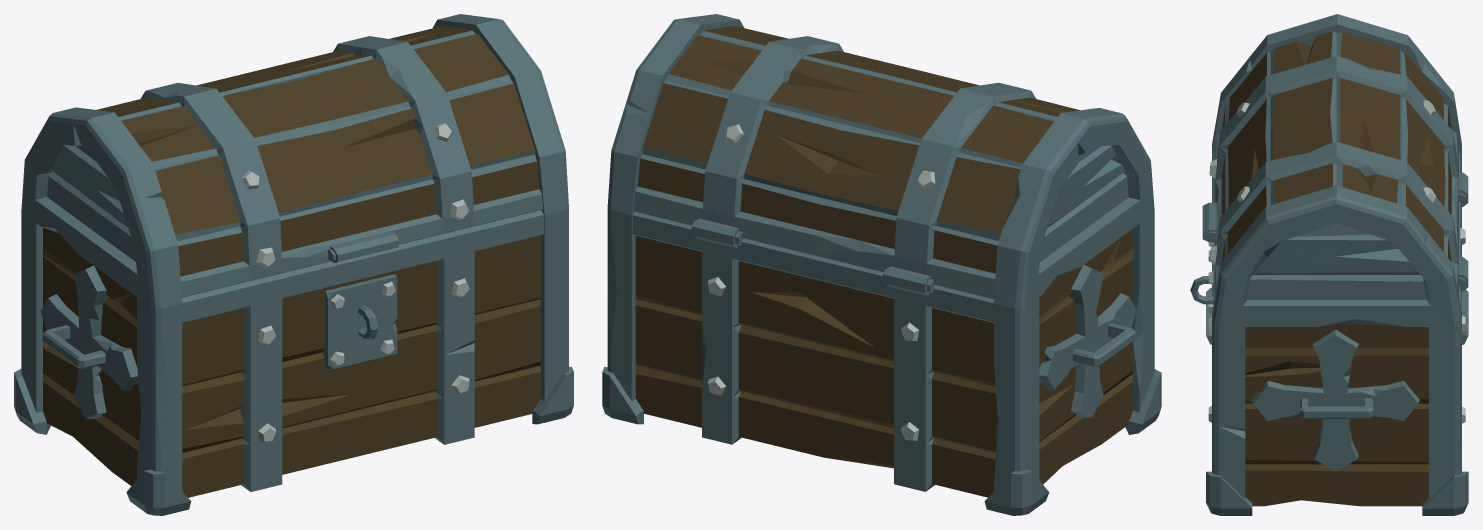
The model's file is TreasureChest.fbx.
3 views of the same model, side by side, from view 1: azimuth 30°, elevation 25°; view 2: azimuth 150°, elevation 25°; view 3: azimuth 270°, elevation 25° (orthographic). The views are drawn at different scales.
Visible parts, largest first — view 1: _chest, SM_Prop_Chest_01_Lid_01; view 2: _chest, SM_Prop_Chest_01_Lid_01; view 3: SM_Prop_Chest_01_Lid_01, _chest.
Boxes of the visible parts, <box> form: _chest: <box>14,208,573,515</box>; SM_Prop_Chest_01_Lid_01: <box>21,14,568,309</box>; _chest: <box>602,209,1161,515</box>; SM_Prop_Chest_01_Lid_01: <box>607,14,1154,308</box>; SM_Prop_Chest_01_Lid_01: <box>1202,14,1468,326</box>; _chest: <box>1190,152,1468,515</box>.
Size of the model in its own units: 548 by 390 by 306.
